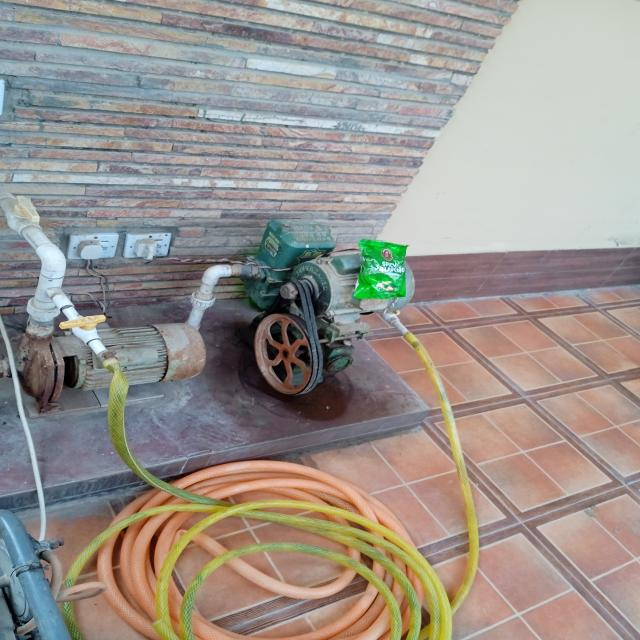Plastic: (359, 240, 406, 297)
